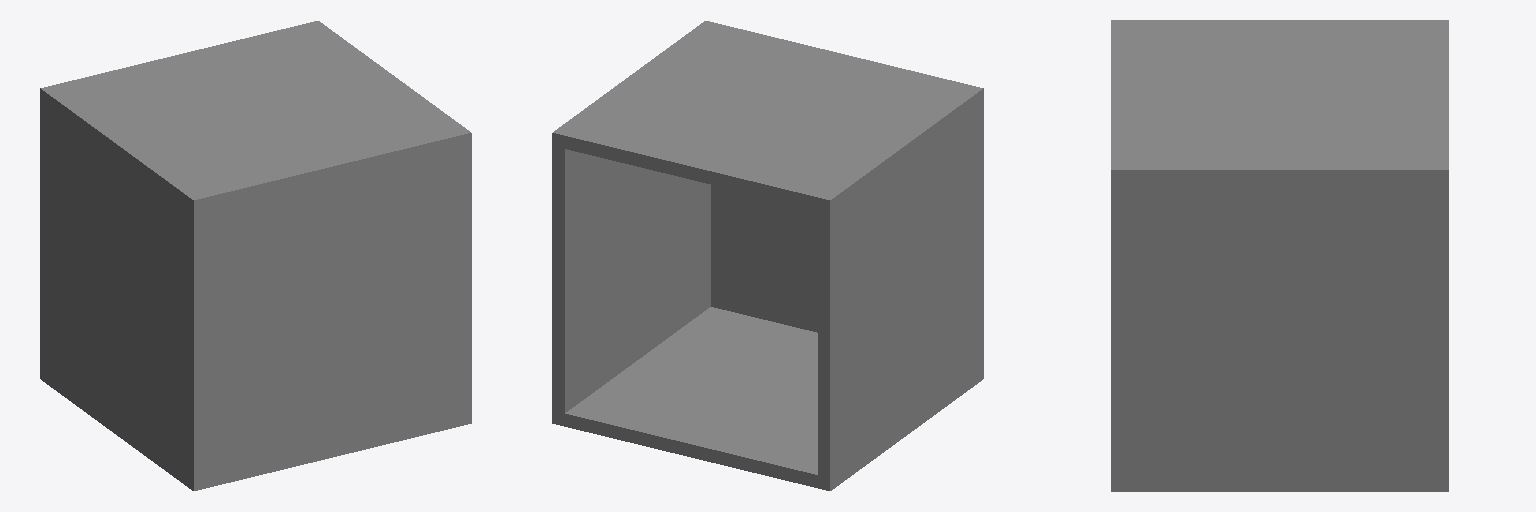
robot.urdf — box.urdf:
<?xml version="1.0" ?>
<robot name="box.urdf">
  <link concave="yes" name="baseLink">
    <contact>
      <lateral_friction value="0.5"/>
      <rolling_friction value="0.0"/>
      <contact_cfm value="0.0"/>
      <contact_erp value="1.0"/>
    </contact>
    <inertial>
      <origin rpy="0 0 0" xyz="0.0 0.0 0.0"/>
       <mass value="0"/>
       <inertia ixx="1" ixy="0" ixz="0" iyy="1" iyz="0" izz="1"/>
    </inertial>
    <visual>
      <origin rpy="0 0 0" xyz="0 0 0"/>
      <geometry>
        <mesh filename="box.obj" scale=".1 .1 .1"/>
      </geometry>
       <material name="gray">
        <color rgba="0.6 0.6 0.6 1"/>
      </material>
    </visual>
    <collision>
      <origin rpy="0 0 0" xyz="0 0 0"/>
      <geometry>
	 	<mesh filename="box.obj" scale=".1 .1 .1"/>
      </geometry>
    </collision>
  </link>
</robot>

--- Facts derived from the render (not from the file) ---
The picture shows the robot from 3 angles, left to right: view 1: azimuth 30°, elevation 25°; view 2: azimuth 150°, elevation 25°; view 3: azimuth 270°, elevation 25°; orthographic projection.
Model box.urdf with 1 links and 0 joints (none), rooted at baseLink, posed every joint at zero.
Visible links, largest first — view 1: baseLink; view 2: baseLink; view 3: baseLink.
Link boxes in pixels (bbox=[...]): baseLink: bbox=[40, 21, 471, 490]; baseLink: bbox=[552, 21, 983, 490]; baseLink: bbox=[1111, 20, 1448, 491].
Size in the robot's own frame: 2.2 by 2.1 by 2.2 metres.
1 mesh visuals loaded from 1 distinct referenced files (1 OBJ).